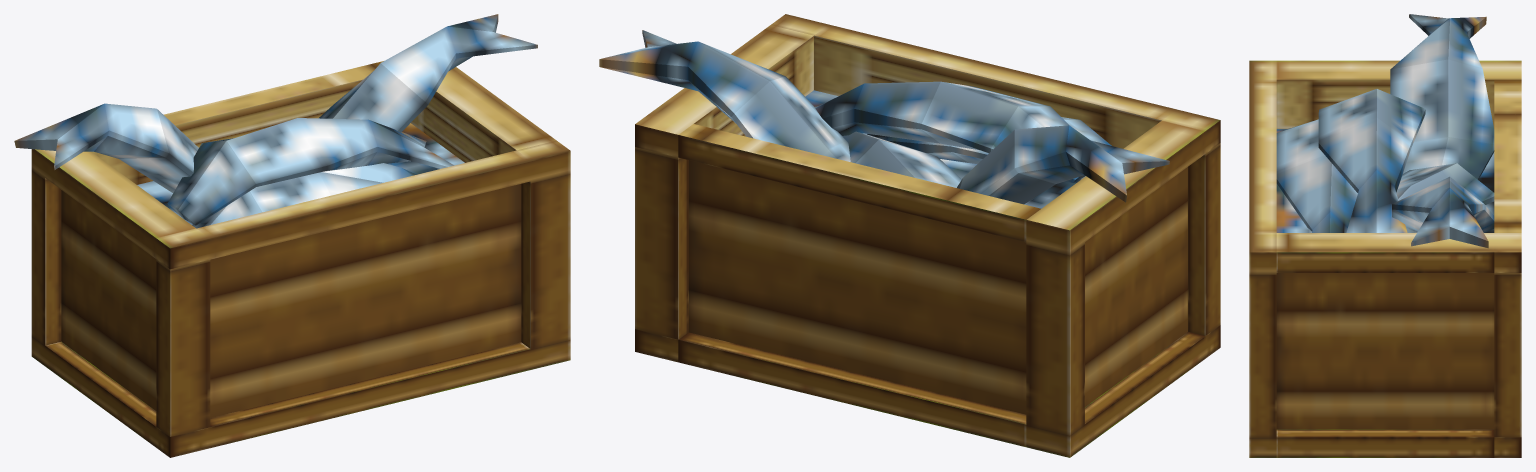
The model's file is Poly_Crate_06.obj.
3 renders of one model, left to right at view 1: azimuth 30°, elevation 25°; view 2: azimuth 150°, elevation 25°; view 3: azimuth 270°, elevation 25°, orthographic. The views are drawn at different scales.
Visible parts, largest first — view 1: Cube, Cube.001, Cube.002_Cube.004, Cube.003_Cube.005, Cube.005_Cube.007, Cube.004_Cube.006; view 2: Cube, Cube.002_Cube.004, Cube.001, Cube.003_Cube.005, Cube.004_Cube.006, Cube.005_Cube.007; view 3: Cube, Cube.003_Cube.005, Cube.001, Cube.005_Cube.007, Cube.002_Cube.004, Cube.004_Cube.006.
Part boxes in pixels (x1,y1,x2,y2): Cube: [31, 61, 570, 457]; Cube.001: [167, 118, 454, 225]; Cube.002_Cube.004: [319, 14, 537, 132]; Cube.003_Cube.005: [14, 103, 198, 192]; Cube.005_Cube.007: [192, 172, 383, 228]; Cube.004_Cube.006: [322, 163, 416, 182]; Cube: [635, 14, 1220, 457]; Cube.002_Cube.004: [599, 30, 850, 161]; Cube.001: [815, 81, 1085, 182]; Cube.003_Cube.005: [957, 125, 1169, 204]; Cube.004_Cube.006: [842, 131, 961, 187]; Cube.005_Cube.007: [867, 117, 1111, 182]; Cube: [1249, 60, 1521, 457]; Cube.003_Cube.005: [1390, 14, 1494, 179]; Cube.001: [1318, 89, 1425, 232]; Cube.005_Cube.007: [1276, 119, 1357, 232]; Cube.002_Cube.004: [1392, 176, 1494, 248]; Cube.004_Cube.006: [1396, 163, 1494, 204].
Size of the model in its own units: 1.21 by 0.6457 by 0.6.
Materials: 1 (1 with a texture image).
